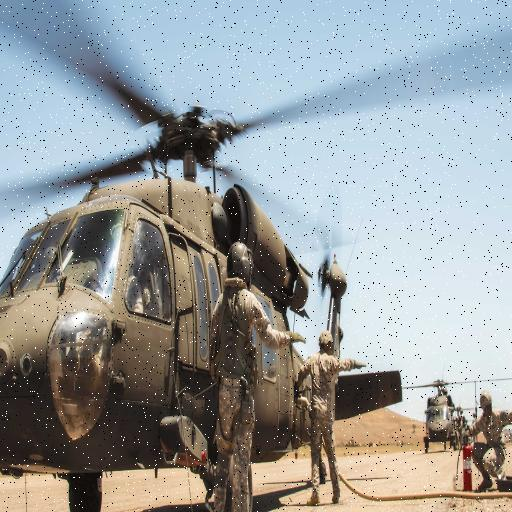helicopter: (1, 1, 400, 512)
